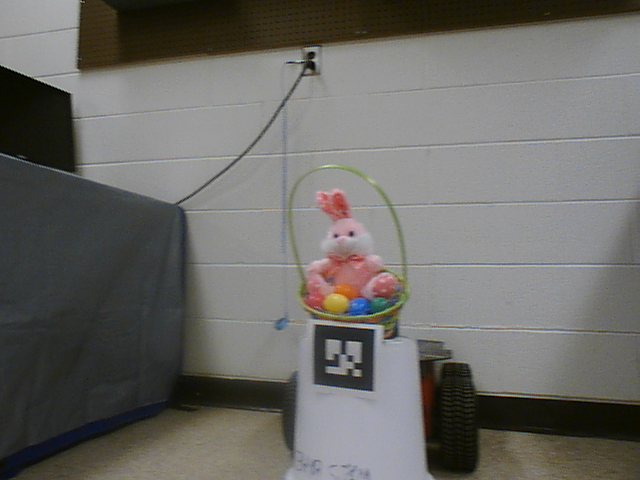bunny: (278, 161, 414, 342)
